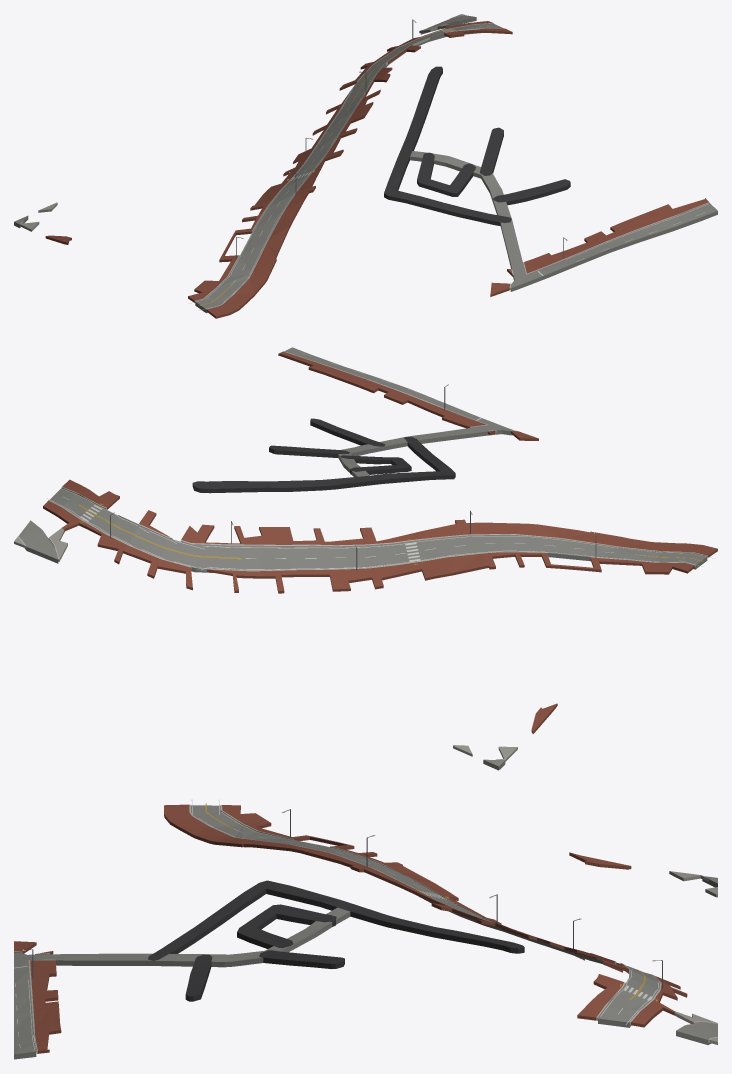
File: 18-218888-118943.f5eba86b.glb
3 views of the same model, one above another, from view 1: azimuth 30°, elevation 25°; view 2: azimuth 150°, elevation 25°; view 3: azimuth 270°, elevation 25° (orthographic). The views are drawn at different scales.
Bounding box in the file's own units: 151 × 40.25 × 146.
